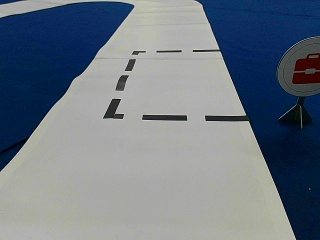company: (276, 36, 319, 95)
